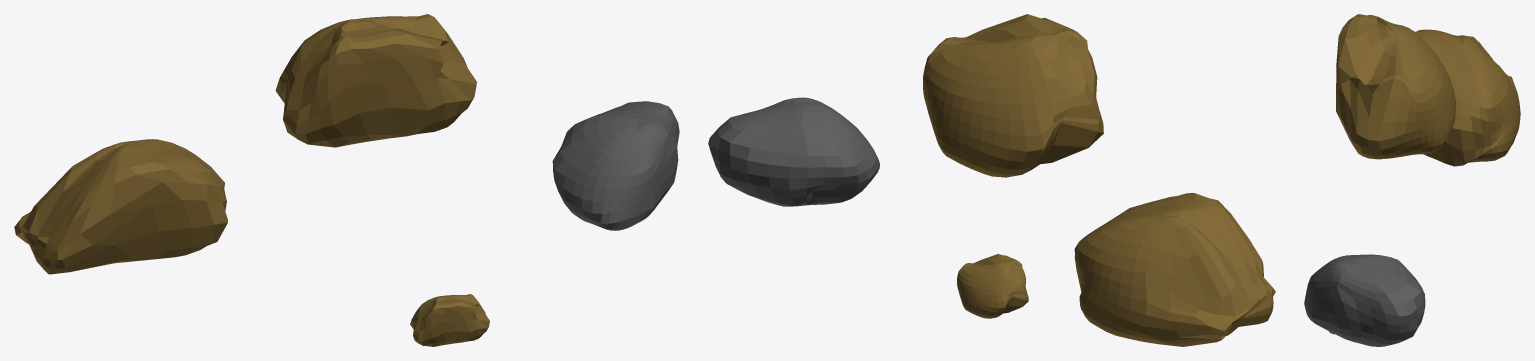
File: rocascafes.glb
3 views of the same model, side by side, from view 1: azimuth 30°, elevation 25°; view 2: azimuth 150°, elevation 25°; view 3: azimuth 270°, elevation 25° (orthographic). The views are drawn at different scales.
Visible parts, largest first — view 1: Esfera.001, Esfera.003, Esfera, Esfera.002; view 2: Esfera.003, Esfera.001, Esfera, Esfera.002; view 3: Esfera.001, Esfera, Esfera.003.
Part boxes in pixels (x1,y1,x2,y2): Esfera.001: (275,14,476,147); Esfera.003: (14,139,227,274); Esfera: (552,101,679,230); Esfera.002: (410,294,489,346); Esfera.003: (1074,193,1275,346); Esfera.001: (923,14,1103,177); Esfera: (708,97,879,206); Esfera.002: (957,254,1028,318); Esfera.001: (1336,14,1456,159); Esfera: (1304,254,1425,346); Esfera.003: (1415,29,1520,166).
Size of the model in its own units: 14.38 by 7.35 by 5.19.
